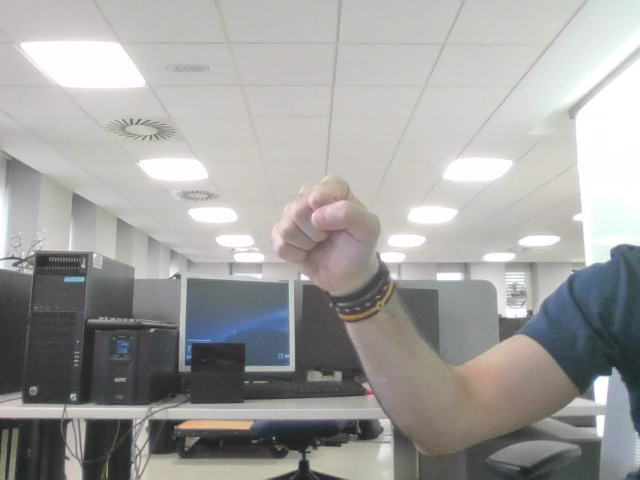Puño: (281, 191, 363, 255)
